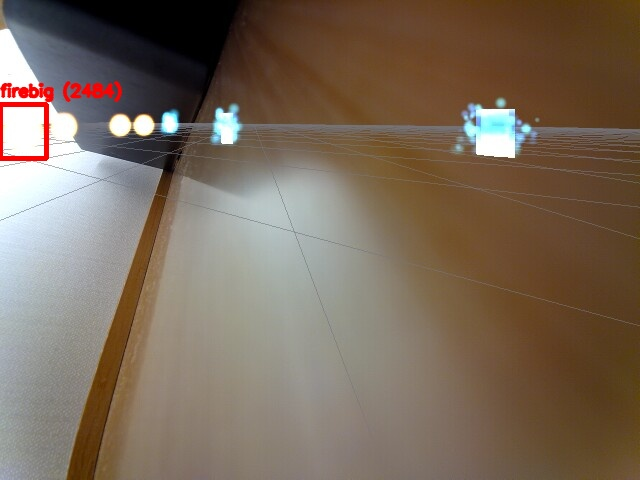firebig: (0, 104, 46, 158)
